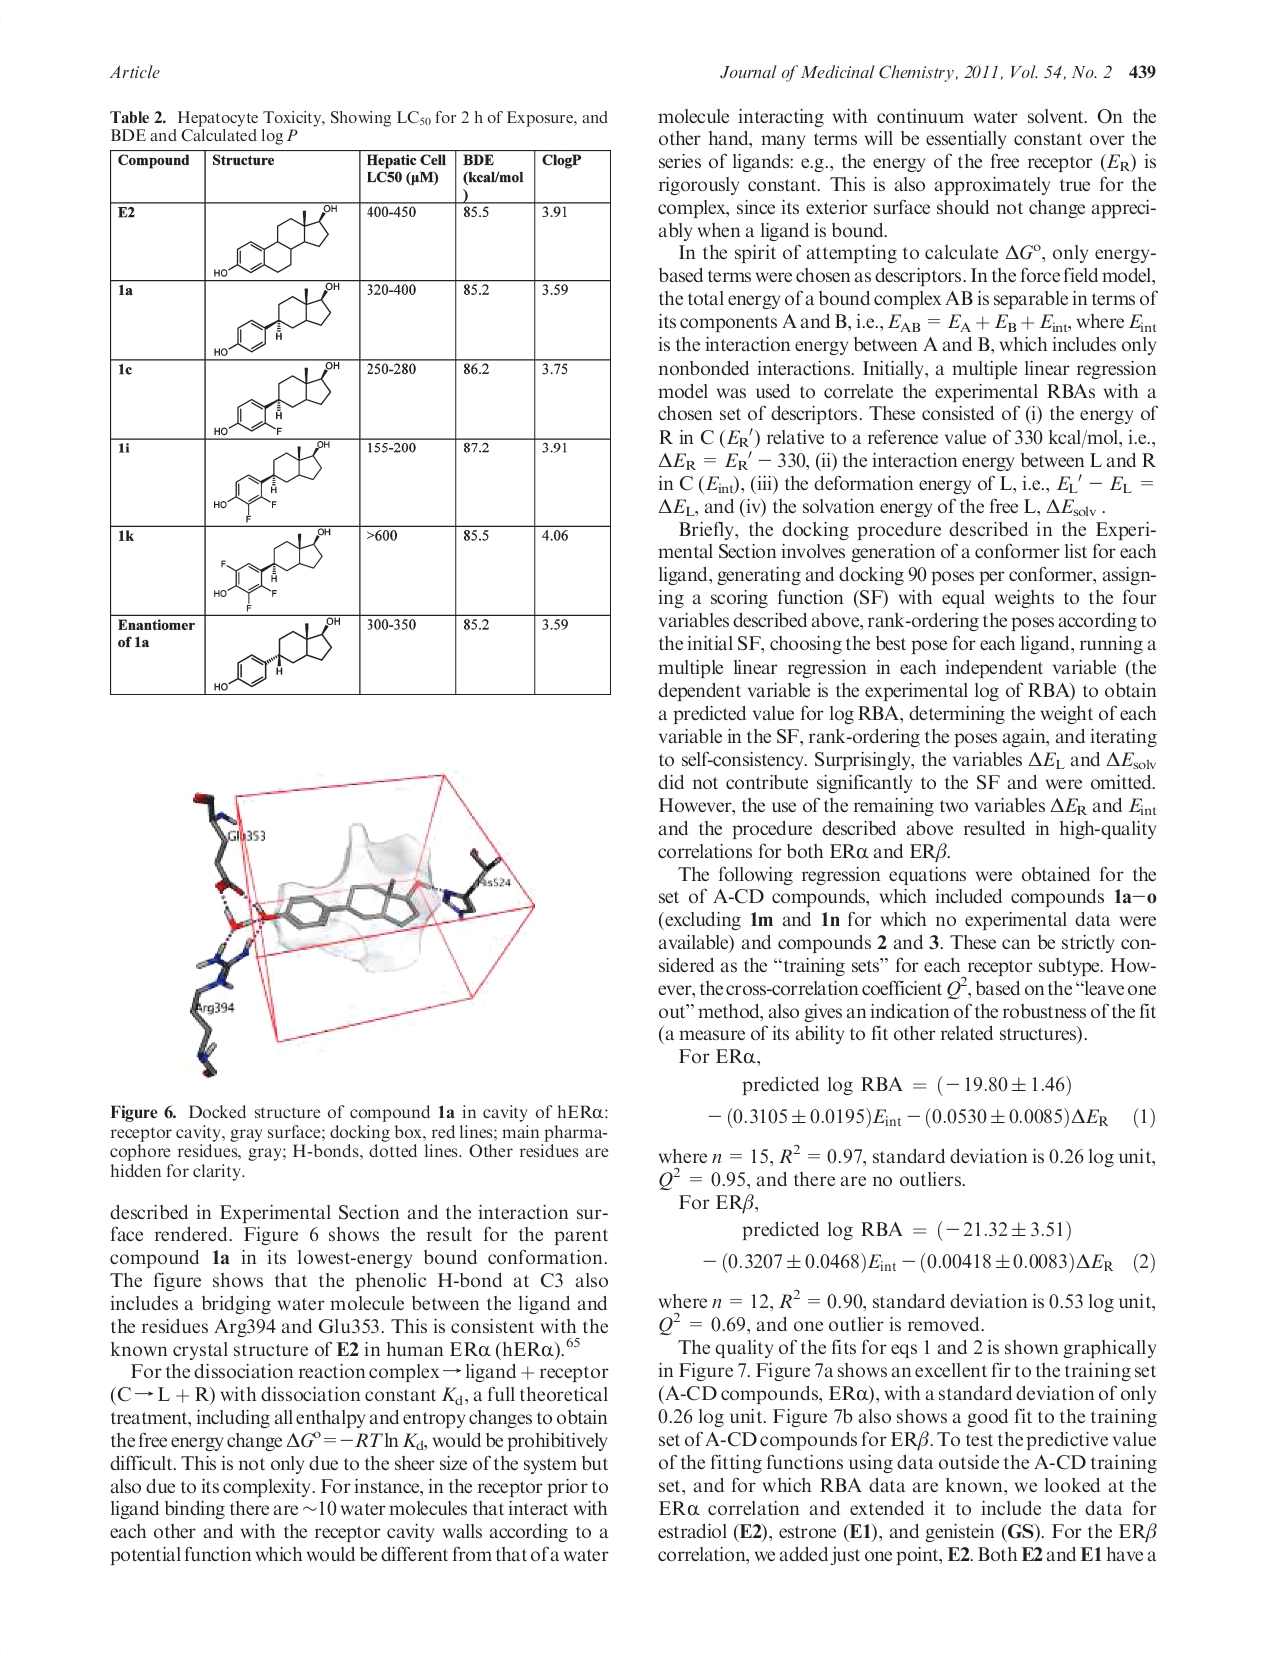exist_molecular: (211, 527, 332, 612), (211, 282, 344, 356), (213, 360, 340, 438), (213, 442, 332, 523), (211, 617, 342, 692), (213, 203, 340, 278)
